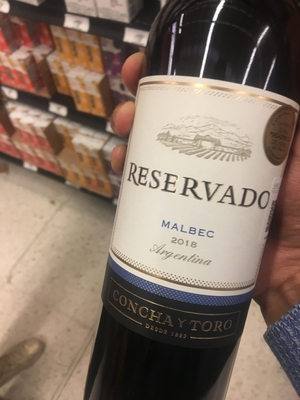reservado malbec: (100, 29, 296, 400)
